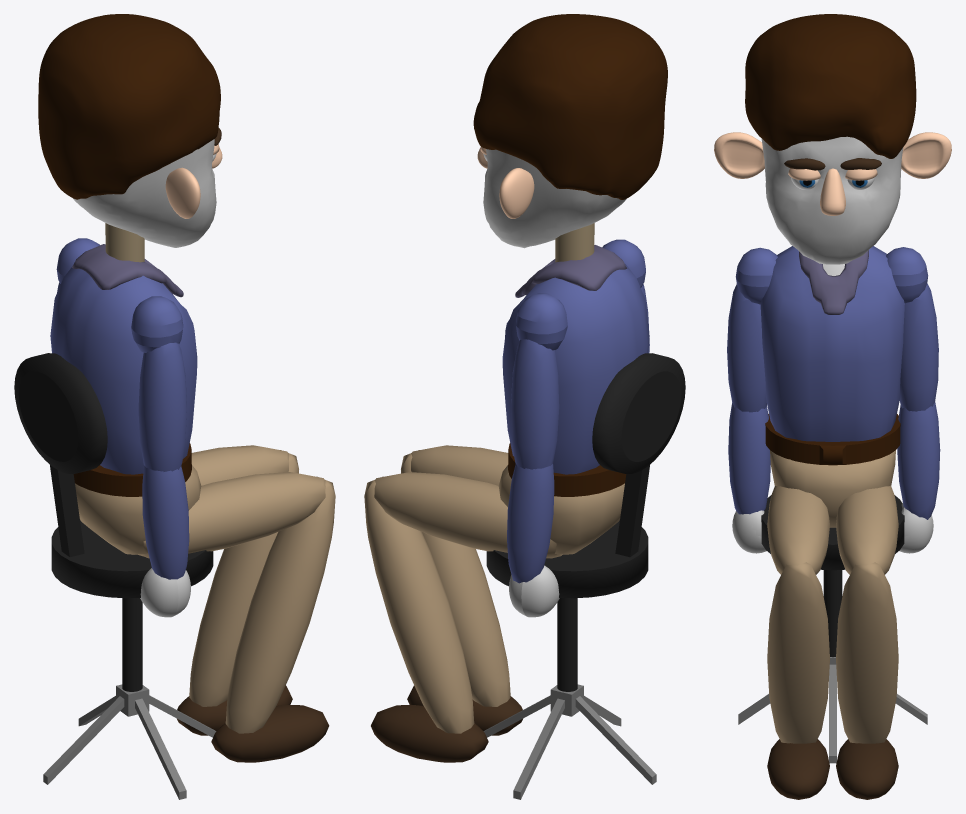
Rendered from Sitting-guy.fbx.
3 renders of one model, left to right at view 1: azimuth 30°, elevation 25°; view 2: azimuth 150°, elevation 25°; view 3: azimuth 270°, elevation 25°, orthographic. The views are drawn at different scales.
Visible parts, largest first — view 1: Cube.004, Cube, Cube.002, Cube.013, Cylinder.004, Cube.012, Cube.011, Cylinder.003, secondhead, Cube.014, Cube.019, Cube.008 (+7 smaller); view 2: Cube.004, Cube.002, Cube, Cube.011, Cylinder.004, Cube.010, Cube.013, Cylinder.003, secondhead, Cube.015, Cube.019, Cube.008 (+7 smaller); view 3: Cube, Cube.004, Cube.002, secondhead, Cube.011, Cube.013, Cube.010, Cube.012, Cube.008, Cube.003, Cylinder.001, Cube.014 (+6 smaller).
Part boxes in pixels (bbox=[...]): Cube.004: bbox=[38, 14, 220, 199]; Cube: bbox=[50, 267, 197, 474]; Cube.002: bbox=[56, 238, 189, 579]; Cube.013: bbox=[225, 476, 335, 733]; Cylinder.004: bbox=[14, 353, 107, 556]; Cube.012: bbox=[131, 472, 325, 558]; Cube.011: bbox=[189, 450, 298, 706]; Cylinder.003: bbox=[51, 520, 213, 691]; secondhead: bbox=[72, 139, 216, 247]; Cube.014: bbox=[211, 705, 329, 762]; Cube.019: bbox=[43, 684, 216, 799]; Cube.008: bbox=[75, 465, 201, 554]; Cube.004: bbox=[473, 14, 667, 199]; Cube.002: bbox=[507, 239, 649, 583]; Cube: bbox=[502, 264, 649, 474]; Cube.011: bbox=[364, 476, 474, 733]; Cylinder.004: bbox=[592, 353, 685, 557]; Cube.010: bbox=[374, 472, 561, 558]; Cube.013: bbox=[401, 450, 510, 706]; Cylinder.003: bbox=[486, 520, 648, 691]; secondhead: bbox=[483, 149, 626, 248]; Cube.015: bbox=[371, 705, 488, 762]; Cube.019: bbox=[483, 684, 656, 799]; Cube.008: bbox=[498, 465, 624, 554]; Cube: bbox=[760, 246, 904, 441]; Cube.004: bbox=[745, 14, 916, 158]; Cube.002: bbox=[727, 247, 940, 519]; secondhead: bbox=[761, 136, 903, 264]; Cube.011: bbox=[836, 562, 898, 743]; Cube.013: bbox=[767, 562, 829, 743]; Cube.010: bbox=[836, 485, 898, 574]; Cube.012: bbox=[767, 486, 829, 574]; Cube.008: bbox=[770, 450, 895, 527]; Cube.003: bbox=[714, 132, 951, 178]; Cylinder.001: bbox=[765, 414, 900, 465]; Cube.014: bbox=[767, 739, 829, 799].
Bounding box in the file's own units: 296 × 786 × 241.
